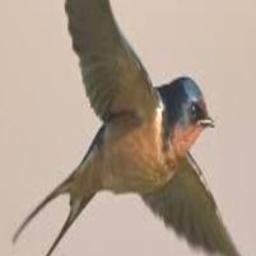Swallow: (13, 0, 256, 256)
